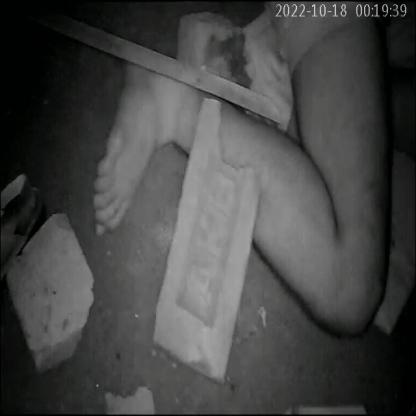leg: (82, 41, 400, 343)
